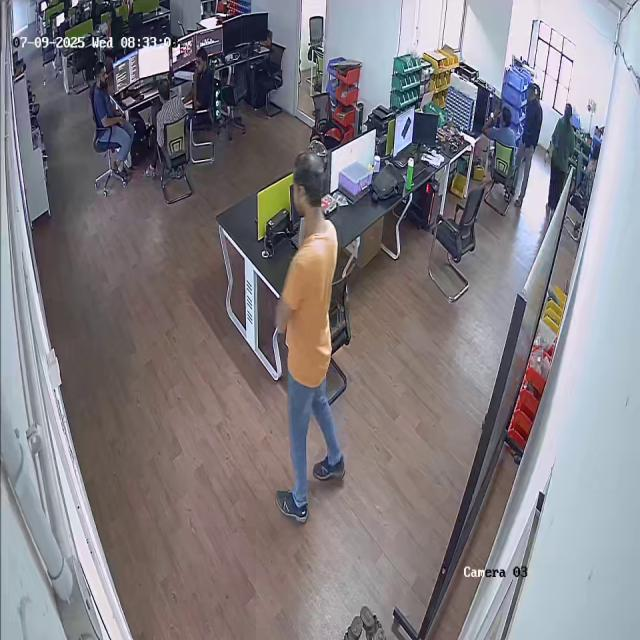person: (261, 151, 354, 531), (90, 61, 133, 182), (516, 84, 544, 205), (545, 102, 576, 211), (149, 79, 187, 141), (187, 47, 218, 113)
